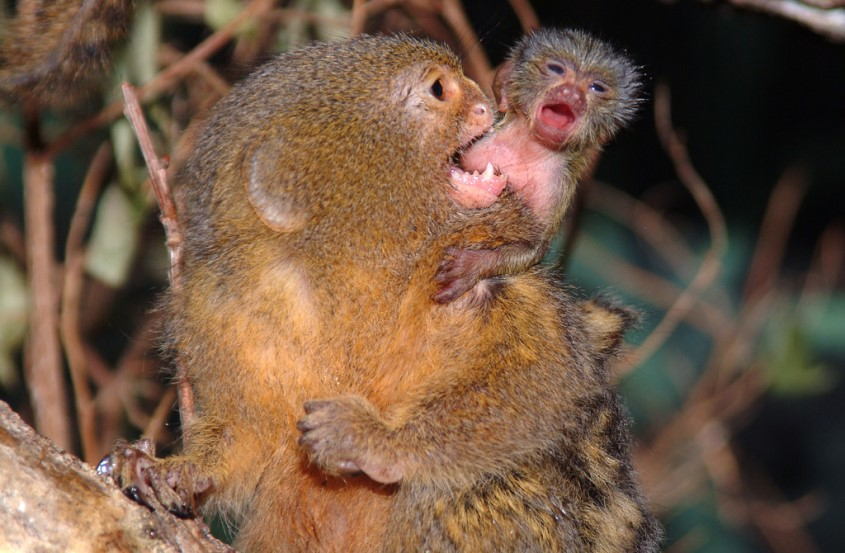PygmyMarmoset: (174, 36, 507, 552), (505, 30, 637, 246)
